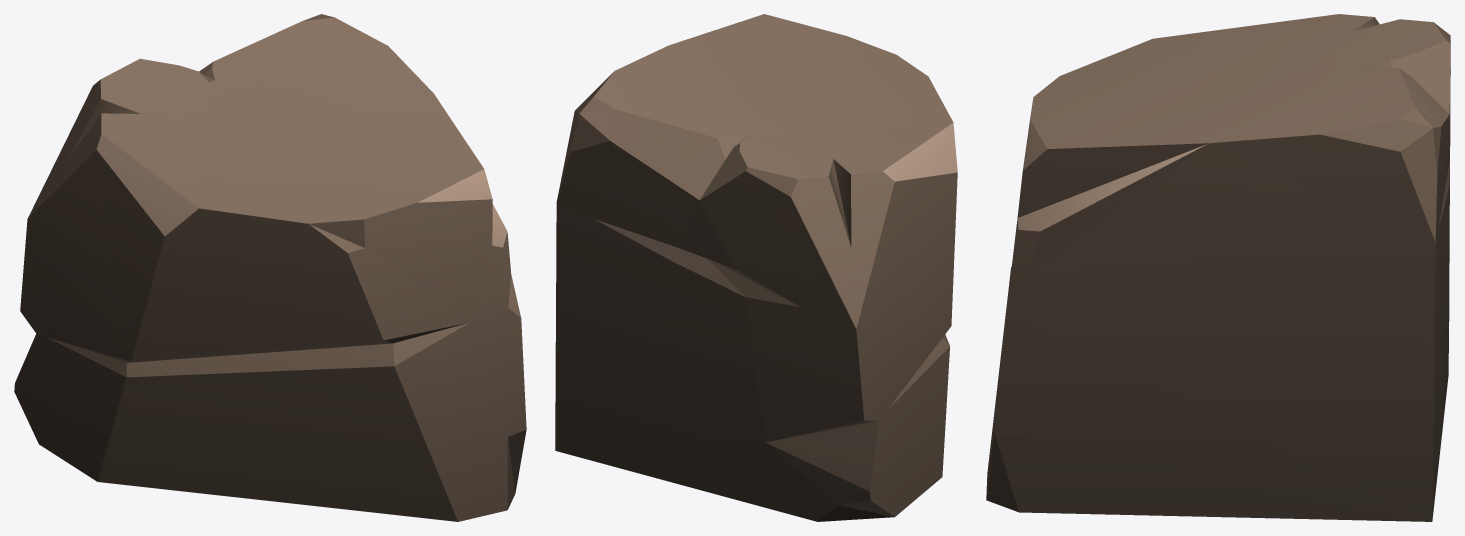
The model's file is Rock_Medium_3F.fbx.
3 views of the same model, side by side, from view 1: azimuth 30°, elevation 25°; view 2: azimuth 150°, elevation 25°; view 3: azimuth 270°, elevation 25° (orthographic). The views are drawn at different scales.
Visible parts, largest first — view 1: Rock_Medium_3F; view 2: Rock_Medium_3F; view 3: Rock_Medium_3F.
Boxes of the visible parts, x1=… form: Rock_Medium_3F: x1=14, y1=14, x2=526, y2=521; Rock_Medium_3F: x1=555, y1=14, x2=957, y2=521; Rock_Medium_3F: x1=986, y1=14, x2=1450, y2=521.
Bounding box in the file's own units: 1.71 × 1.77 × 1.91.
